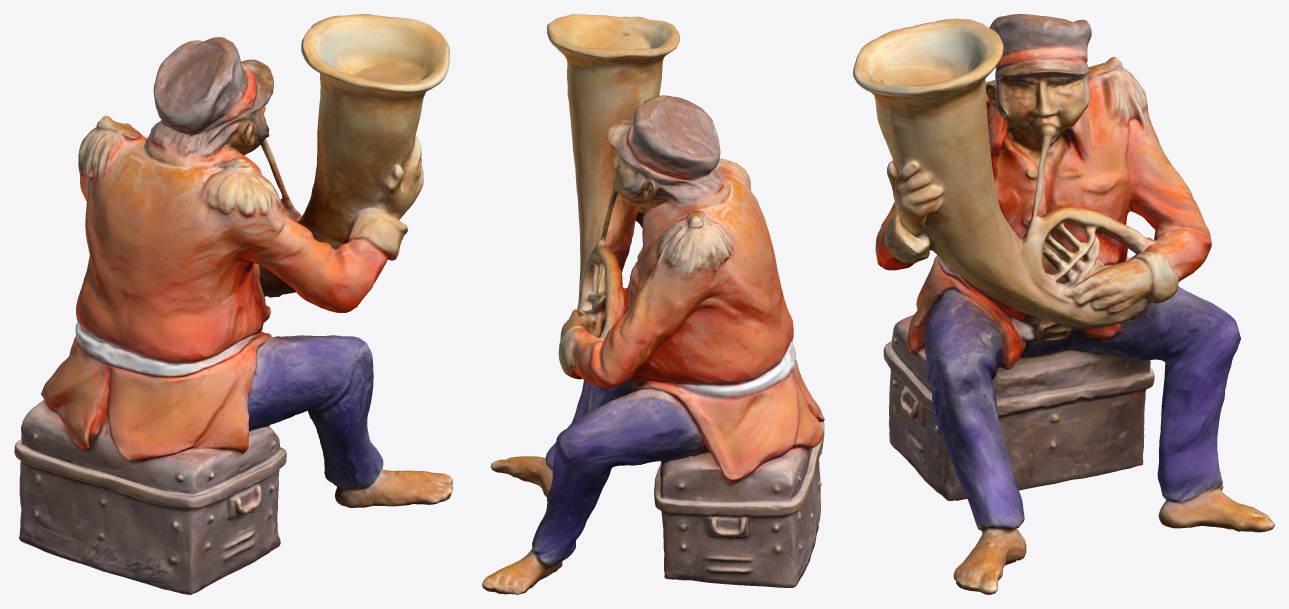
File: khanna-shyam-pratap-bhompu-walae.glb
3 views of the same model, side by side, from view 1: azimuth 30°, elevation 25°; view 2: azimuth 150°, elevation 25°; view 3: azimuth 270°, elevation 25° (orthographic). The views are drawn at different scales.
Visible parts, largest first — view 1: Mesh_003; view 2: Mesh_003; view 3: Mesh_003.
Part boxes in pixels (x1=…): Mesh_003: x1=14, y1=14, x2=453, y2=594; Mesh_003: x1=482, y1=14, x2=824, y2=594; Mesh_003: x1=853, y1=14, x2=1274, y2=594.
Bounding box in the file's own units: 24.28 × 29.67 × 22.64.
1 material, 1 textured.
